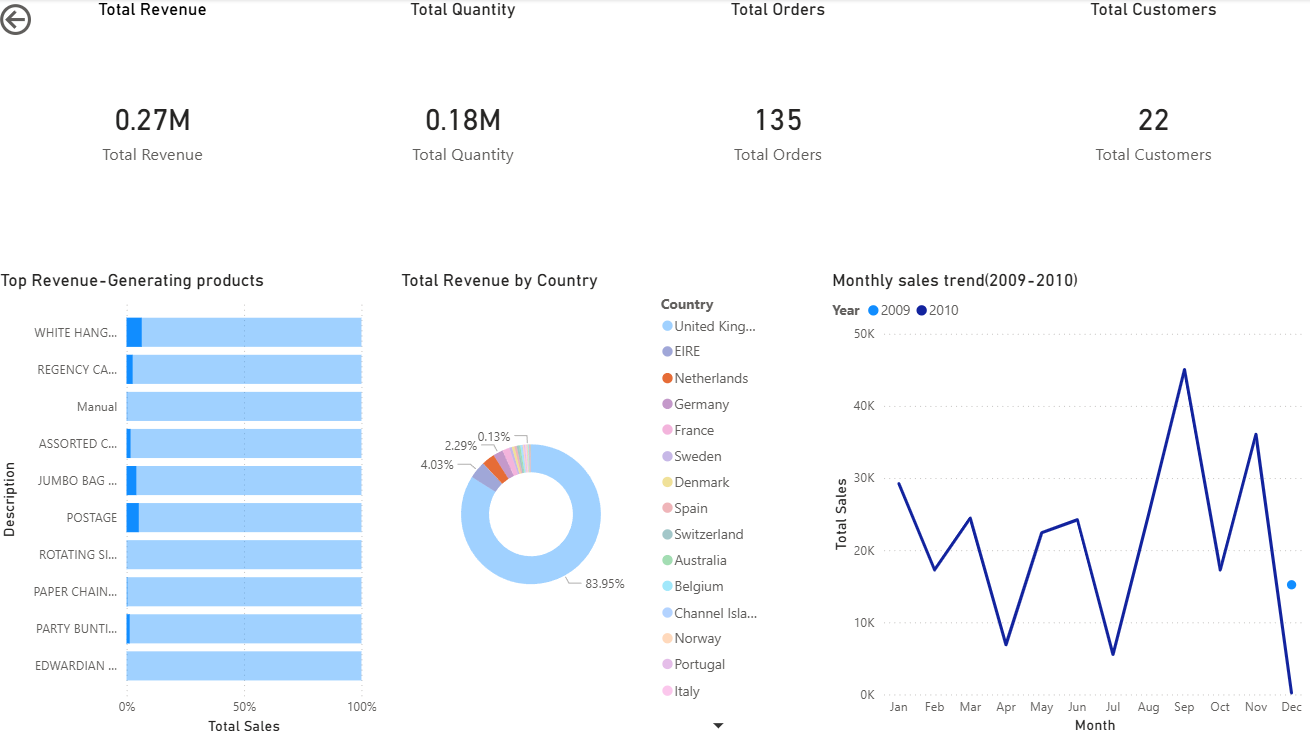

What the dashboard file says about the page in this screenshot:
{"tool":"powerbi","page":{"name":"Page 1","canvas":[1280,720],"ordinal":0},"visuals":[{"type":"card","title":"Total Revenue","fields":{"Values":["Year 2009-2010.Total Revenue"]},"box":[0,0,306.4,232.5],"z":0},{"type":"card","title":"Total Quantity","fields":{"Values":["Year 2009-2010.Total Quantity"]},"box":[306.4,0,297.6,232.5],"z":1000},{"type":"card","title":"Total Orders","fields":{"Values":["Year 2009-2010.Total Orders"]},"box":[604,0,315.1,232.5],"z":2000},{"type":"card","title":"Total Customers","fields":{"Values":["Year 2009-2010.Total Customers"]},"box":[973.6,0,306.4,232.5],"z":3000},{"type":"hundredPercentStackedBarChart","title":"Top Revenue-Generating products","fields":{"Category":["Year 2009-2010.Description"],"Y":["Year 2009-2010.Total Sales"]},"box":[0,263.6,376.4,456.2],"z":4000},{"type":"donutChart","fields":{"Category":["Year 2009-2010.Country"],"Y":["Year 2009-2010.Total Revenue"]},"box":[390,263.6,371.6,456.2],"z":5000},{"type":"actionButton","box":[0,0,100,40],"z":6000},{"type":"lineChart","title":"Monthly sales trend(2009-2010)","fields":{"Y":["Year 2009-2010.Total Sales"],"Category":["Year 2009-2010.Month"],"Series":["Year 2009-2010.Year"]},"box":[809.2,263.6,470.8,456.2],"z":7000}]}

Visuals, with their boxes in screenshot pixels (x1, y1, x2, y2), scaled from the page's 1280x720 canvas onto the 1310x739 screenshot:
"Total Revenue" card: <bbox>0, 0, 314, 239</bbox>
"Total Quantity" card: <bbox>314, 0, 618, 239</bbox>
"Total Orders" card: <bbox>618, 0, 941, 239</bbox>
"Total Customers" card: <bbox>996, 0, 1309, 239</bbox>
"Top Revenue-Generating products" hundredPercentStackedBarChart: <bbox>0, 271, 385, 738</bbox>
donutChart - Year 2009-2010.Country x Year 2009-2010.Total Revenue: <bbox>399, 271, 779, 738</bbox>
actionButton: <bbox>0, 0, 102, 41</bbox>
"Monthly sales trend(2009-2010)" lineChart: <bbox>828, 271, 1309, 738</bbox>
